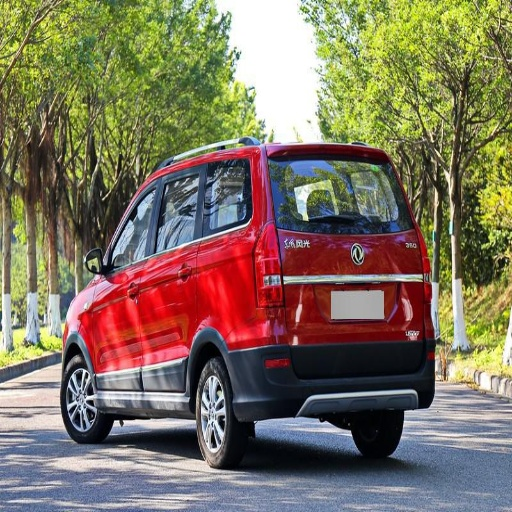back_bumper: (236, 346, 430, 418)
back_glass: (275, 156, 407, 231)
back_left_door: (142, 160, 242, 390)
trunk: (270, 232, 426, 370)
